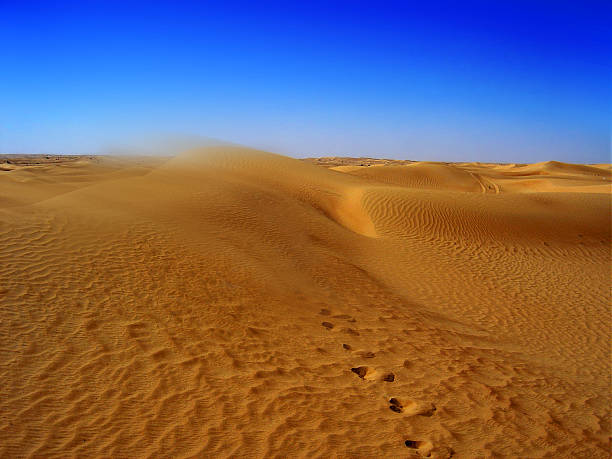human_footprint: (404, 440, 454, 458), (389, 397, 435, 416), (351, 366, 394, 381)
